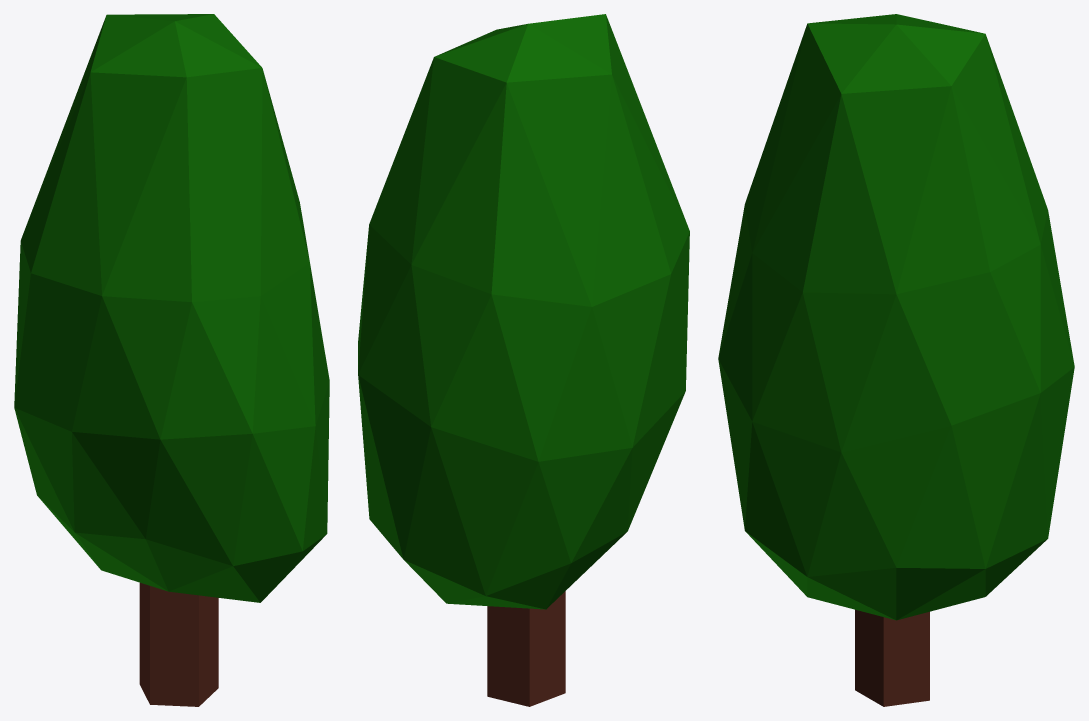
The model's file is tree1.fbx.
The picture shows the model from 3 angles, left to right: view 1: azimuth 30°, elevation 25°; view 2: azimuth 150°, elevation 25°; view 3: azimuth 270°, elevation 25°; orthographic projection.
Parts seen in each view (by area): view 1: Cylinder.030; view 2: Cylinder.030; view 3: Cylinder.030.
Part boxes in pixels (<box>): Cylinder.030: <box>14,14,329,706</box>; Cylinder.030: <box>358,14,689,706</box>; Cylinder.030: <box>718,14,1074,706</box>.
Size of the model in its own units: 9.22 by 20.56 by 10.
